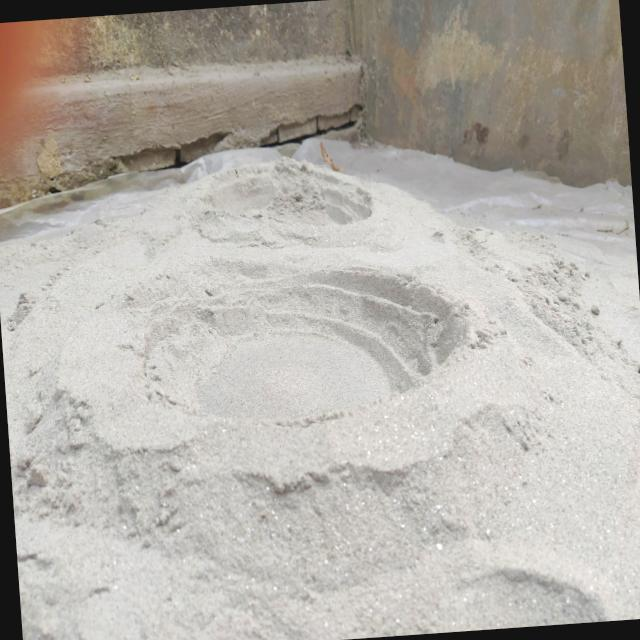C20: (145, 272, 464, 424), (205, 167, 372, 229)
